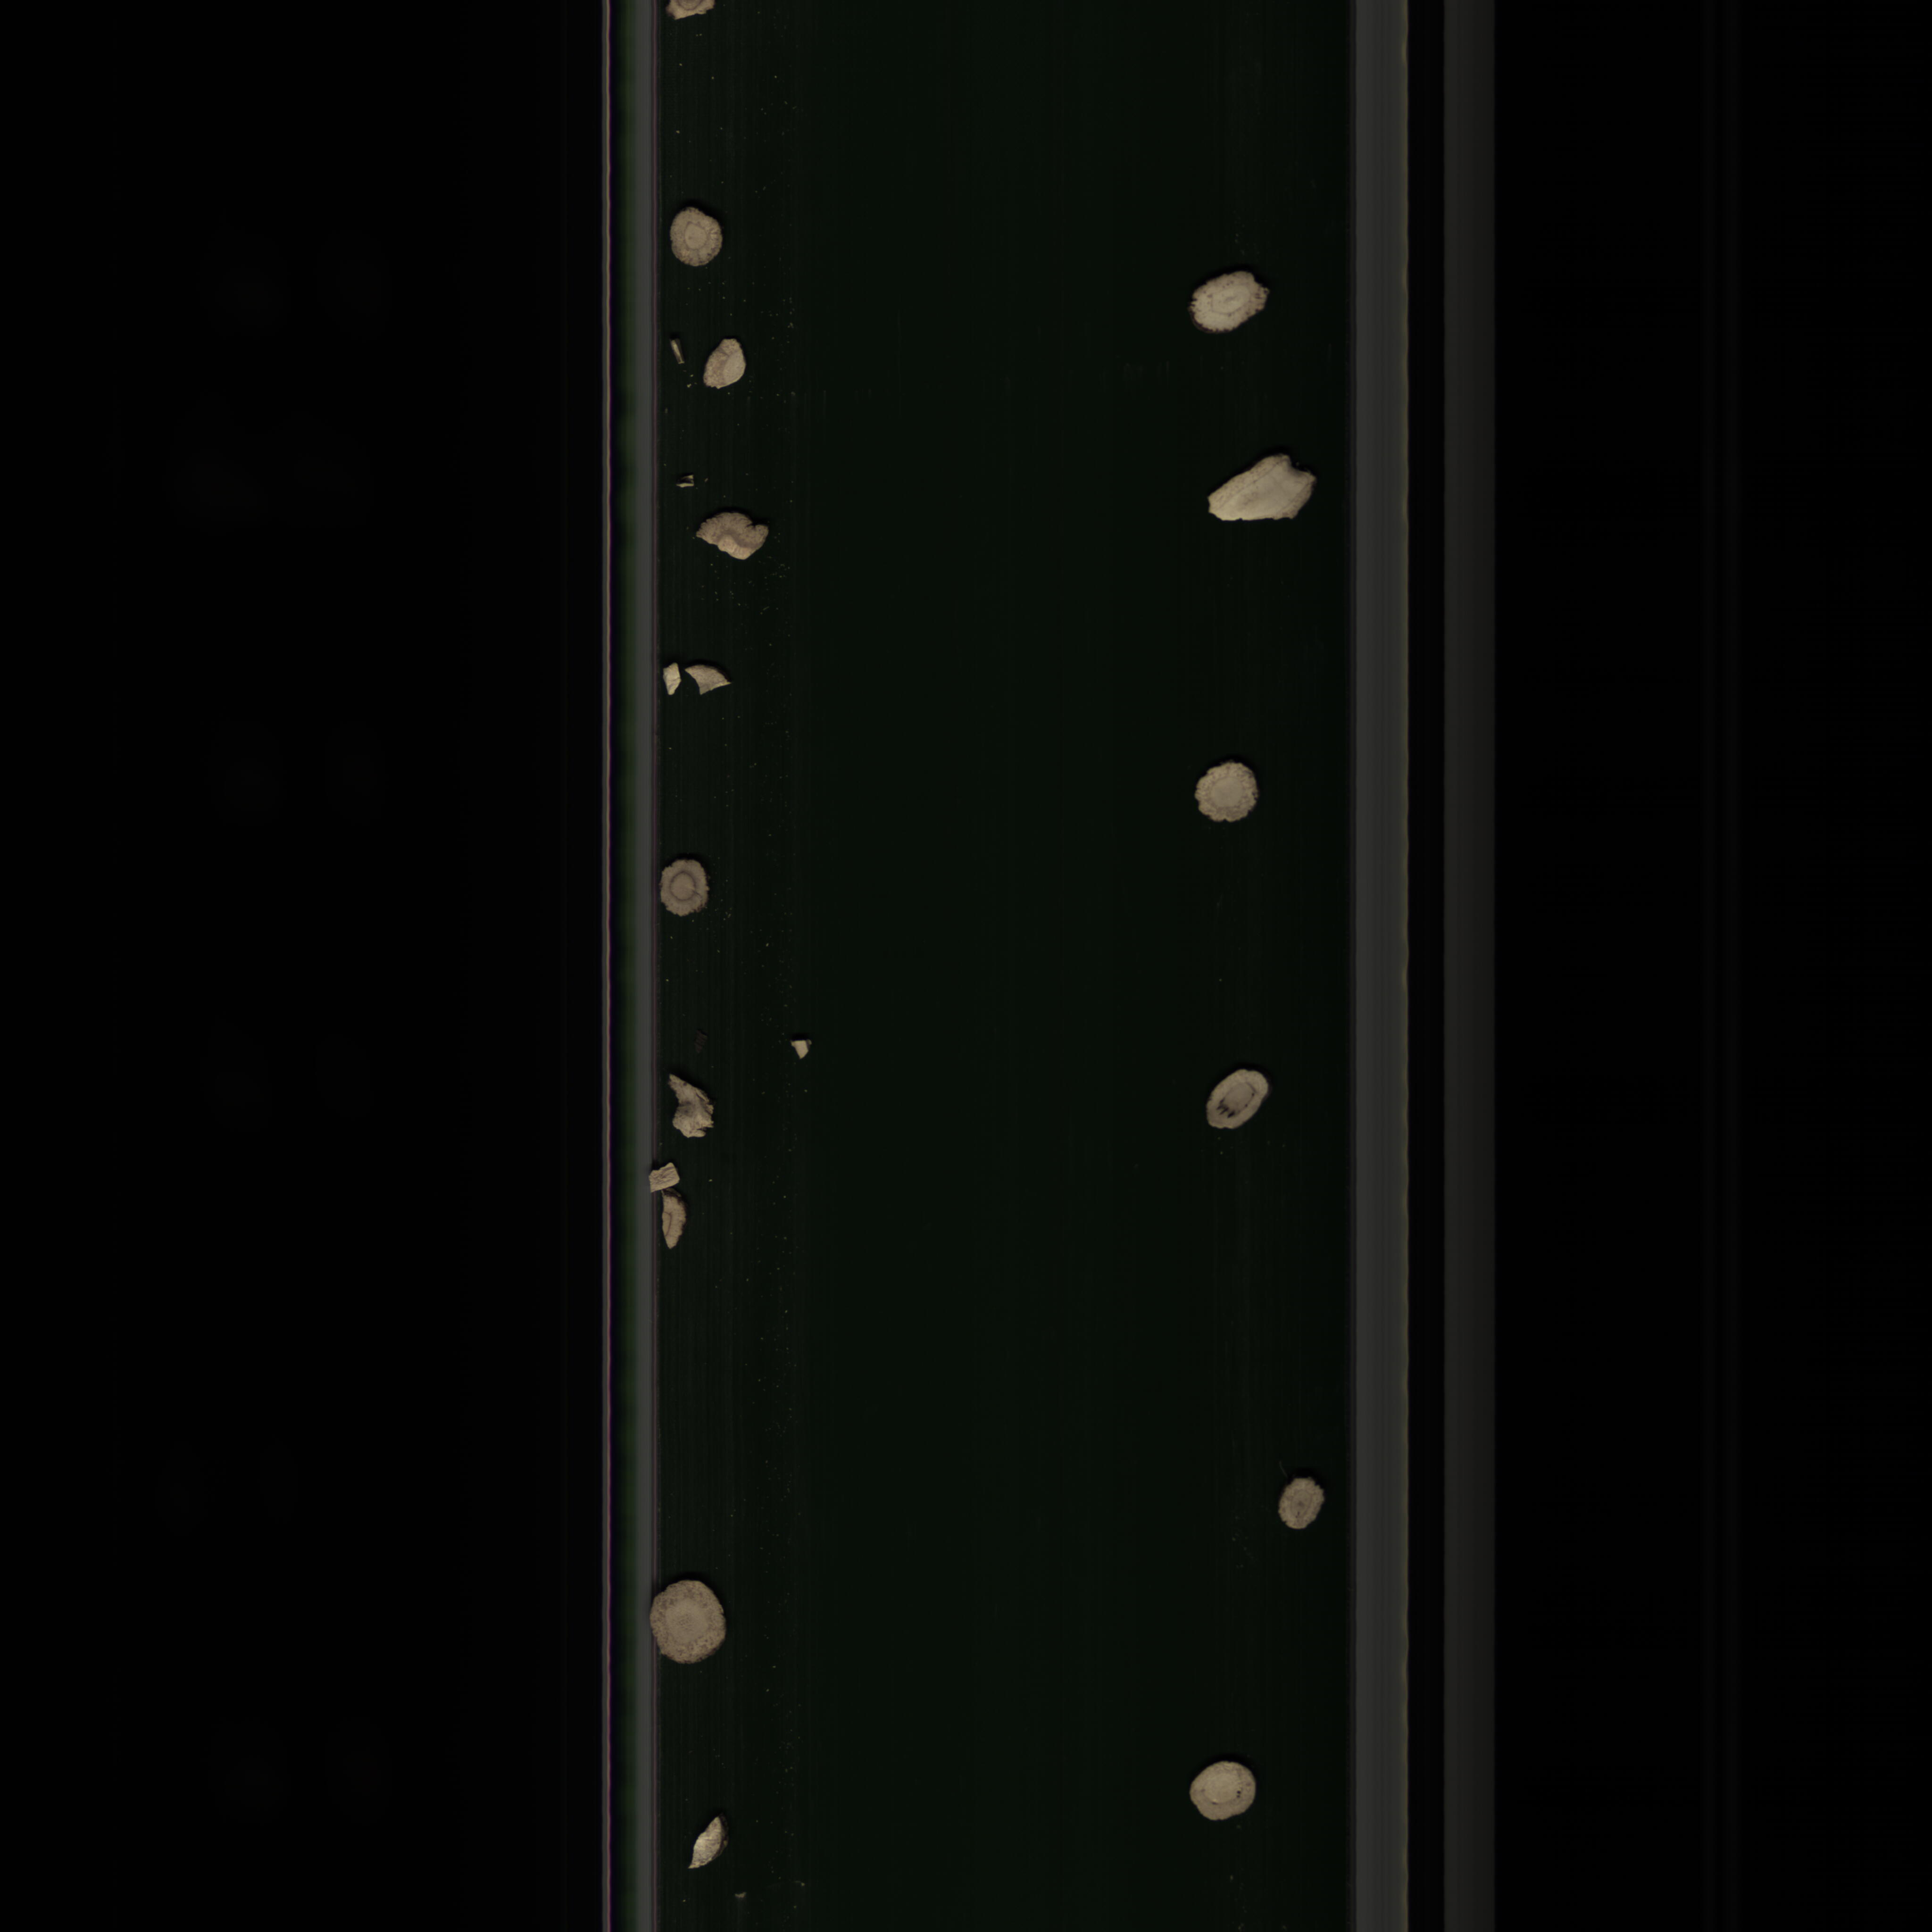debris: (1201, 446, 1329, 545), (690, 502, 775, 568), (662, 1065, 722, 1145), (694, 333, 757, 403), (660, 658, 736, 701), (681, 1815, 732, 1874), (656, 1187, 694, 1253), (640, 1161, 686, 1192), (787, 1033, 816, 1063)
hole: (1200, 1060, 1270, 1145)
moldy: (656, 853, 715, 924)
